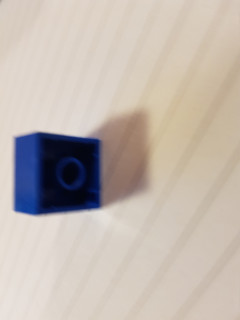2x2 blue: (13, 130, 103, 217)
